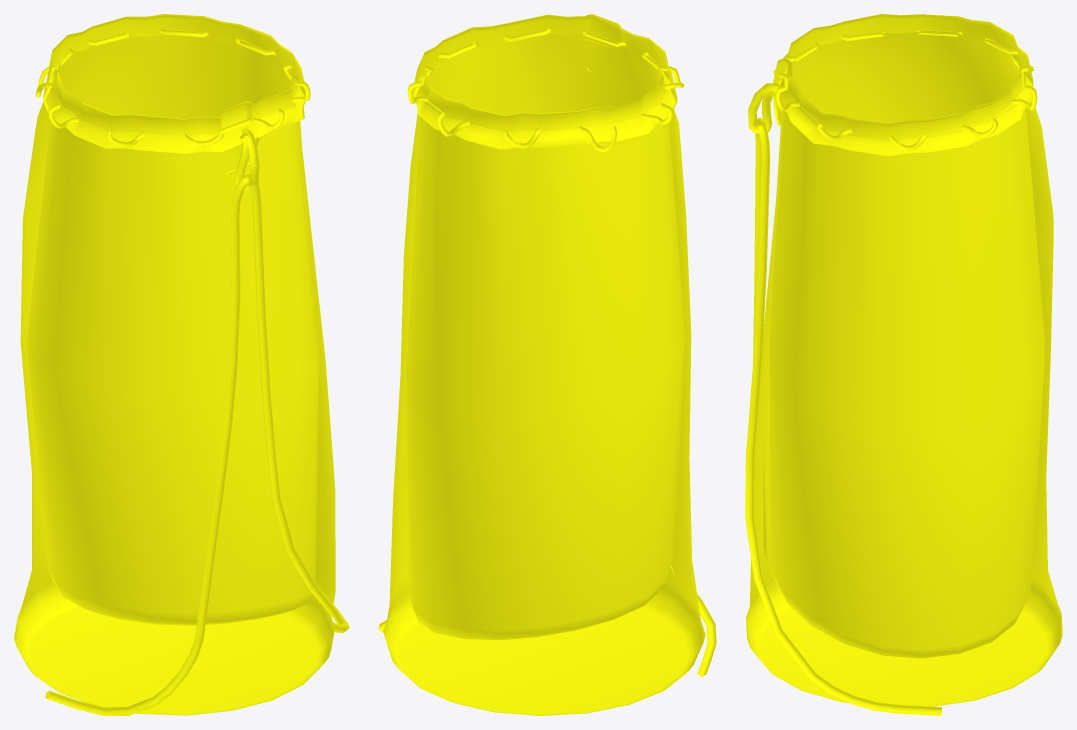
File: SM_Acc2Group_bag1.glb
The picture shows the model from 3 angles, left to right: view 1: azimuth 30°, elevation 25°; view 2: azimuth 150°, elevation 25°; view 3: azimuth 270°, elevation 25°; orthographic projection.
Parts seen in each view (by area): view 1: SM_Acc2Group_bag1; view 2: SM_Acc2Group_bag1; view 3: SM_Acc2Group_bag1.
Boxes of the visible parts, left/top/right/bottom form: SM_Acc2Group_bag1: left=14, top=14, right=349, bottom=715; SM_Acc2Group_bag1: left=378, top=14, right=716, bottom=715; SM_Acc2Group_bag1: left=745, top=14, right=1062, bottom=715.
Size of the model in its own units: 0.322 by 0.622 by 0.3047.
Materials: 3 (3 with a texture image).
